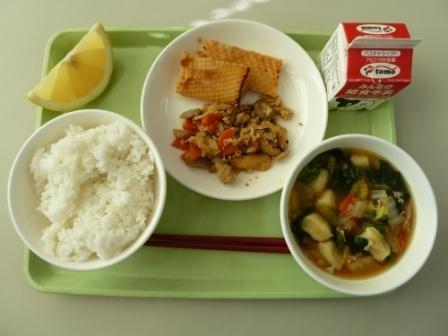Citrus: (25, 20, 125, 105)
Milk: (316, 20, 425, 114)
Rice: (11, 124, 168, 265)
Soups: (295, 140, 430, 286)
cookies: (171, 33, 291, 113)
vegetable based cooked food: (180, 107, 295, 184)
